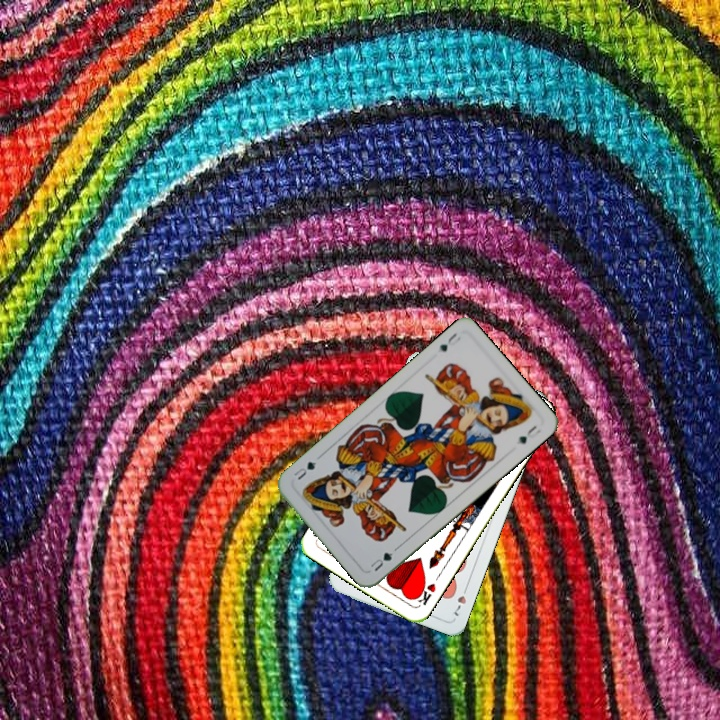GU: (366, 548, 396, 574), (435, 328, 463, 354)
H7: (448, 581, 471, 619)
HK: (411, 579, 438, 609)
